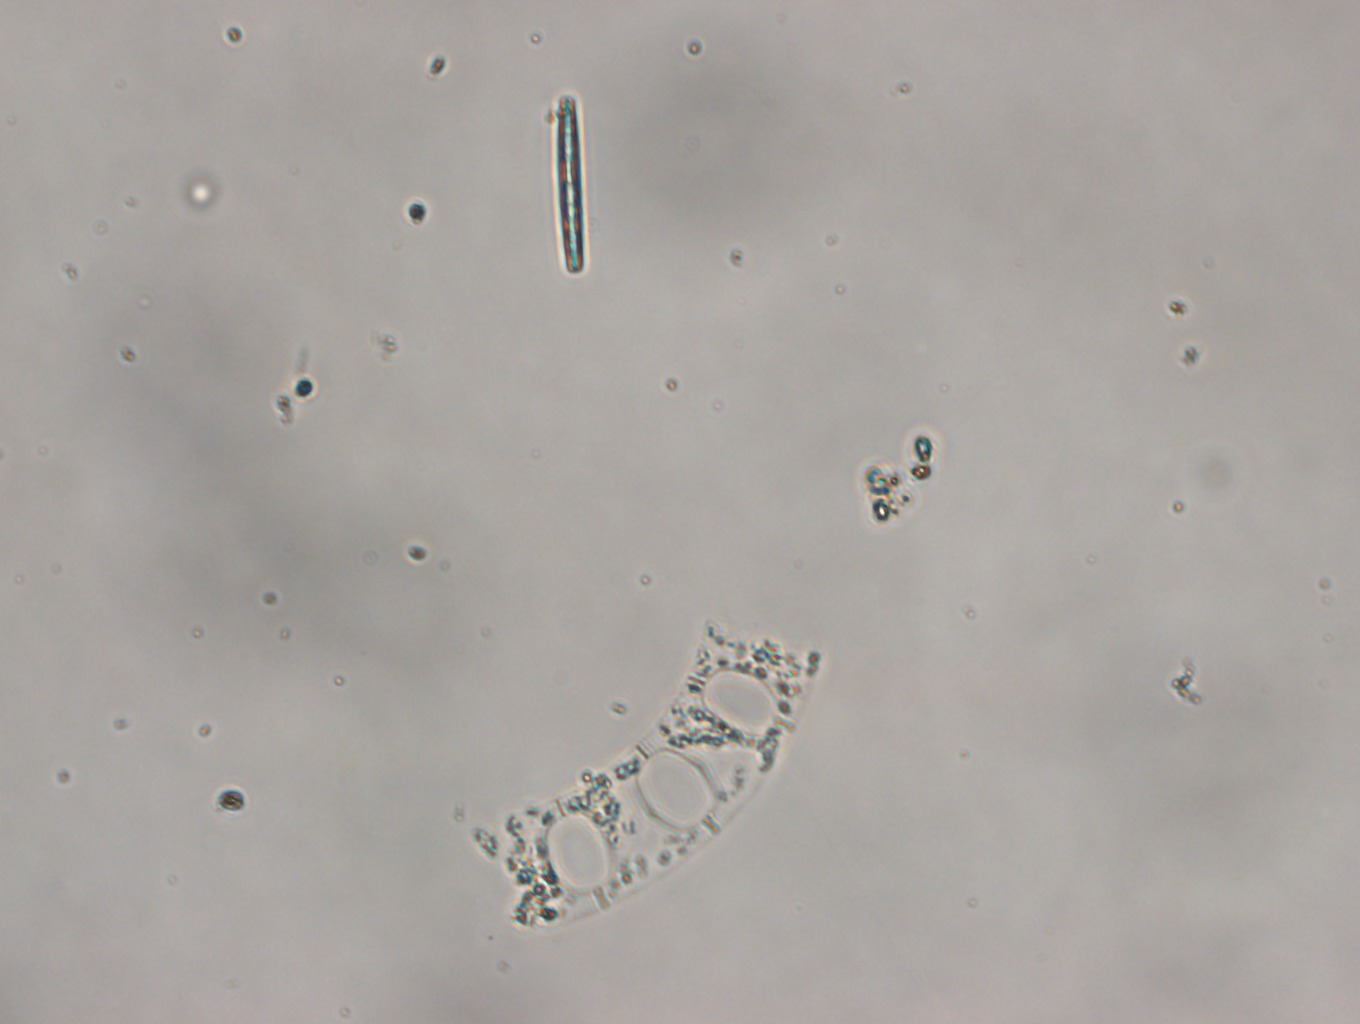eucampia: (472, 620, 824, 928)
thalassionema nitzschioides: (549, 89, 593, 278)
